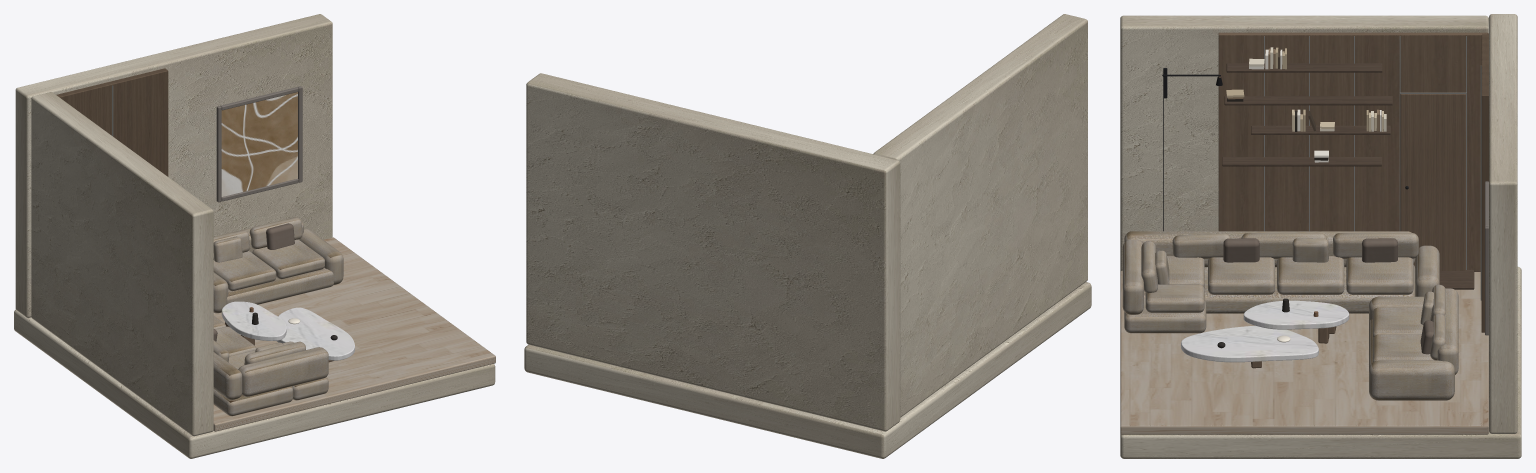
The model's file is livingroom.glb.
3 views of the same model, side by side, from view 1: azimuth 30°, elevation 25°; view 2: azimuth 150°, elevation 25°; view 3: azimuth 270°, elevation 25° (orthographic). The views are drawn at different scales.
Parts seen in each view (by area): view 1: WallLeft, WallBack, Floor, Plinth, Loveseat, ArtPrint, CabinetPanels, ChaiseBack, TableFrontTop, LoveBase, WallArt, TableRearTop (+5 smaller); view 2: WallBack, WallLeft, Plinth; view 3: OakPanel, Floor, WallLeft, WallBack, Plinth, ConcealedDoor, Loveseat, TableFrontTop, RunBase, TableRearTop, SeatCushion2, SeatCushion1 (+27 smaller).
Boxes of the visible parts, x1,y1,x2,y2 form: WallLeft: (31,92,213,436); WallBack: (15,14,332,317); Floor: (213,237,495,431); Plinth: (14,309,495,458); Loveseat: (213,217,343,313); ArtPrint: (221,92,297,196); CabinetPanels: (56,68,168,176); ChaiseBack: (238,347,328,396); TableFrontTop: (276,307,354,360); LoveBase: (226,267,333,304); WallArt: (216,86,302,202); TableRearTop: (221,301,286,340); WallBack: (526,73,900,431); WallLeft: (873,14,1087,417); Plinth: (524,282,1091,458); OakPanel: (1218,32,1487,271); Floor: (1120,271,1488,434); WallLeft: (1120,15,1488,271); WallBack: (1489,14,1517,433); Plinth: (1120,267,1521,458); ConcealedDoor: (1400,94,1465,270); Loveseat: (1369,284,1458,400); TableFrontTop: (1181,325,1318,362); RunBase: (1144,265,1415,313); TableRearTop: (1243,300,1349,329); SeatCushion2: (1277,256,1344,294); SeatCushion1: (1346,257,1413,294).
Bounding box in the file's own units: 4.9 × 3.74 × 4.9.
25 materials, 10 textured.
